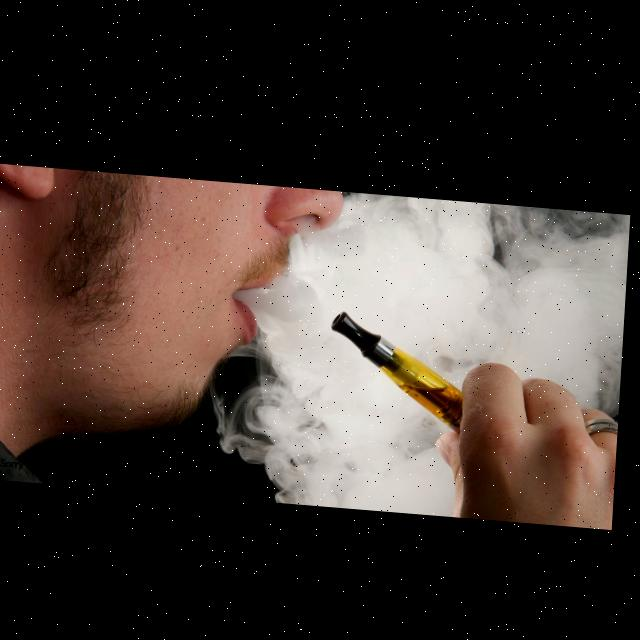vape: (331, 303, 471, 427)
